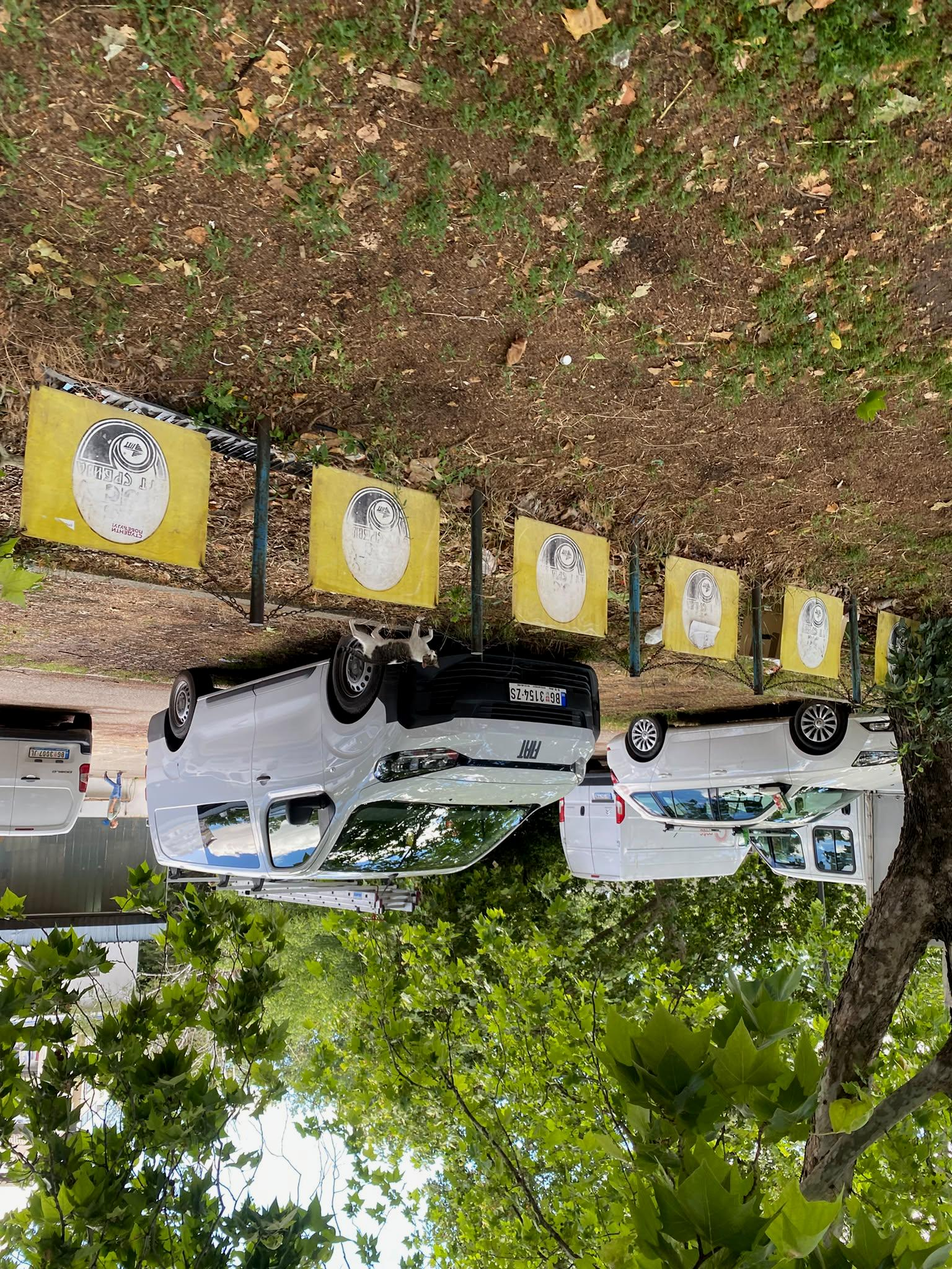macka: (348, 618, 440, 669)
